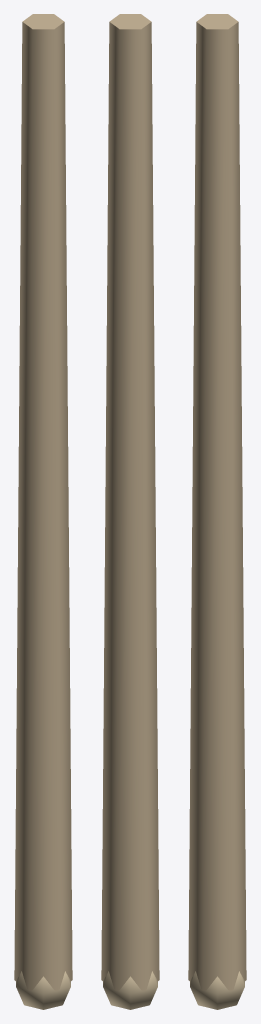
Rendered from drumstick.glb.
3 views of the same model, side by side, from view 1: azimuth 30°, elevation 25°; view 2: azimuth 150°, elevation 25°; view 3: azimuth 330°, elevation 25° (orthographic).
Parts seen in each view (by area): view 1: drumstick; view 2: drumstick; view 3: drumstick.
Part boxes in pixels (left/top/right/bottom): drumstick: left=14, top=14, right=72, bottom=1009; drumstick: left=101, top=14, right=159, bottom=1009; drumstick: left=188, top=14, right=246, bottom=1009.
Size of the model in its own units: 0.024 by 0.412 by 0.022.
